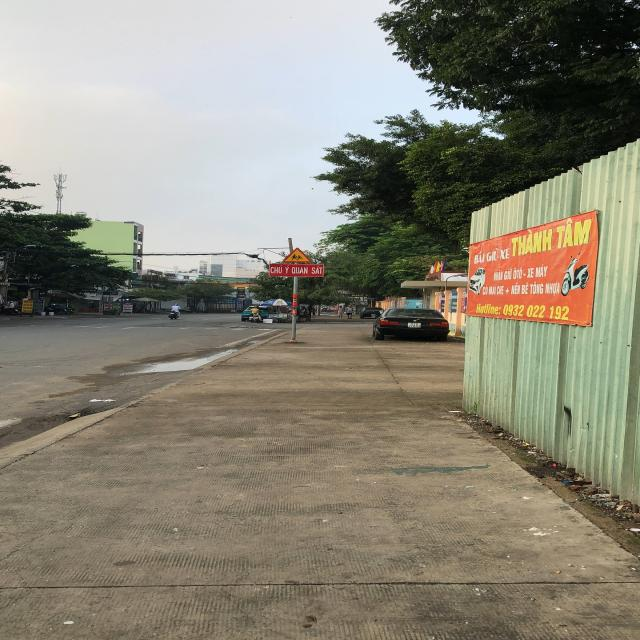Bien bao tre em: (279, 246, 319, 264)
